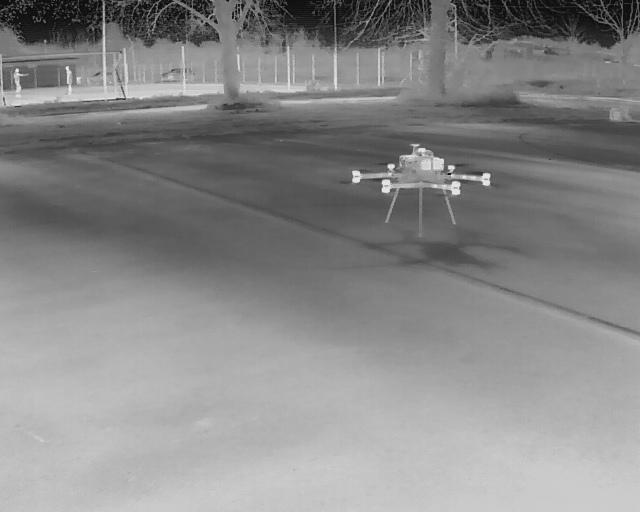drone: (346, 132, 492, 239)
